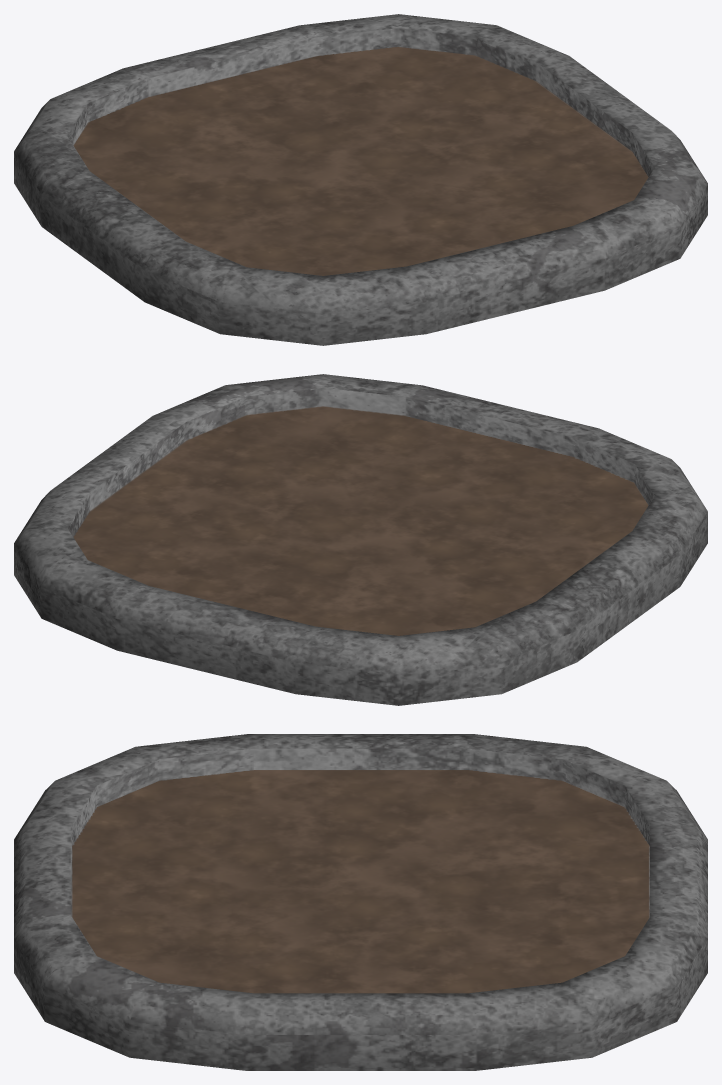
The model's file is TreeBaseGround.fbx.
The picture shows the model from 3 angles, top to bottom: view 1: azimuth 30°, elevation 25°; view 2: azimuth 150°, elevation 25°; view 3: azimuth 270°, elevation 25°; orthographic projection. The views are drawn at different scales.
Visible parts, largest first — view 1: TreeBaseGround; view 2: TreeBaseGround; view 3: TreeBaseGround.
Boxes of the visible parts, left/top/right/bottom form: TreeBaseGround: left=14, top=14, right=707, bottom=345; TreeBaseGround: left=14, top=374, right=707, bottom=705; TreeBaseGround: left=14, top=734, right=707, bottom=1070.
Bounding box in the file's own units: 59.16 × 5 × 59.16.
Materials: 1 (1 with a texture image).
